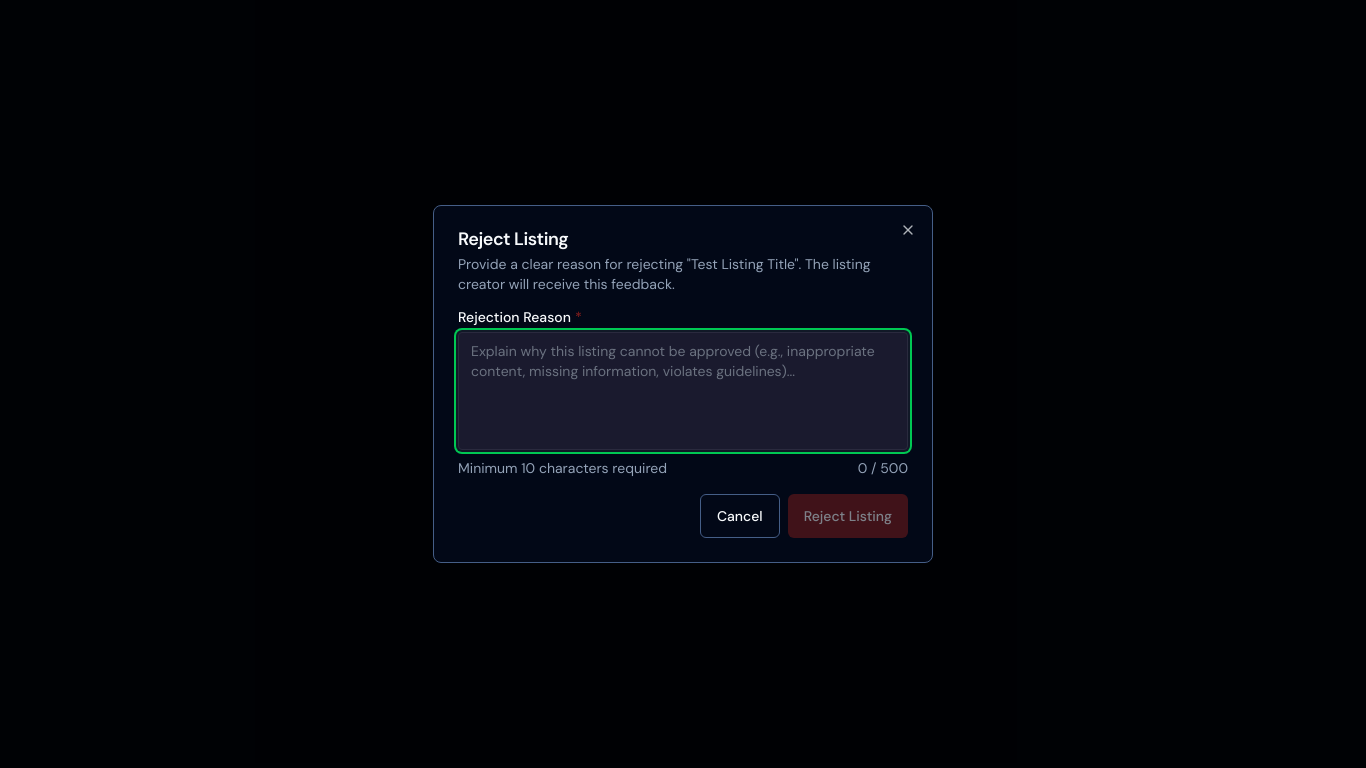
RejectListingModal › displays error message on submission failure
The image size is (1366, 768).
Step 1. Type "This listing violates our content policy" into the text box labelled "Rejection Reason*" → coordinates (683, 391), box x1=458 y1=332 x2=908 y2=450
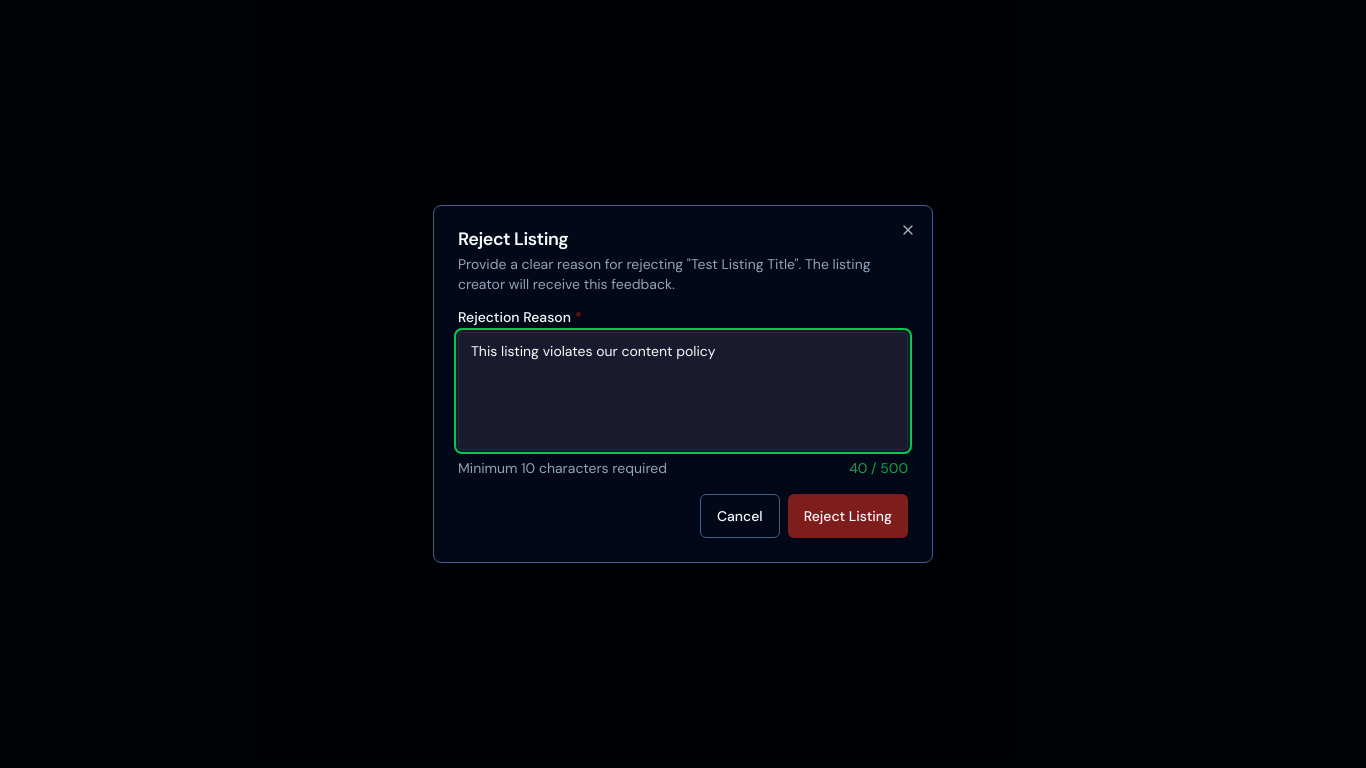
Step 2. Click the button "Reject Listing" → coordinates (848, 516), box x1=788 y1=494 x2=908 y2=538
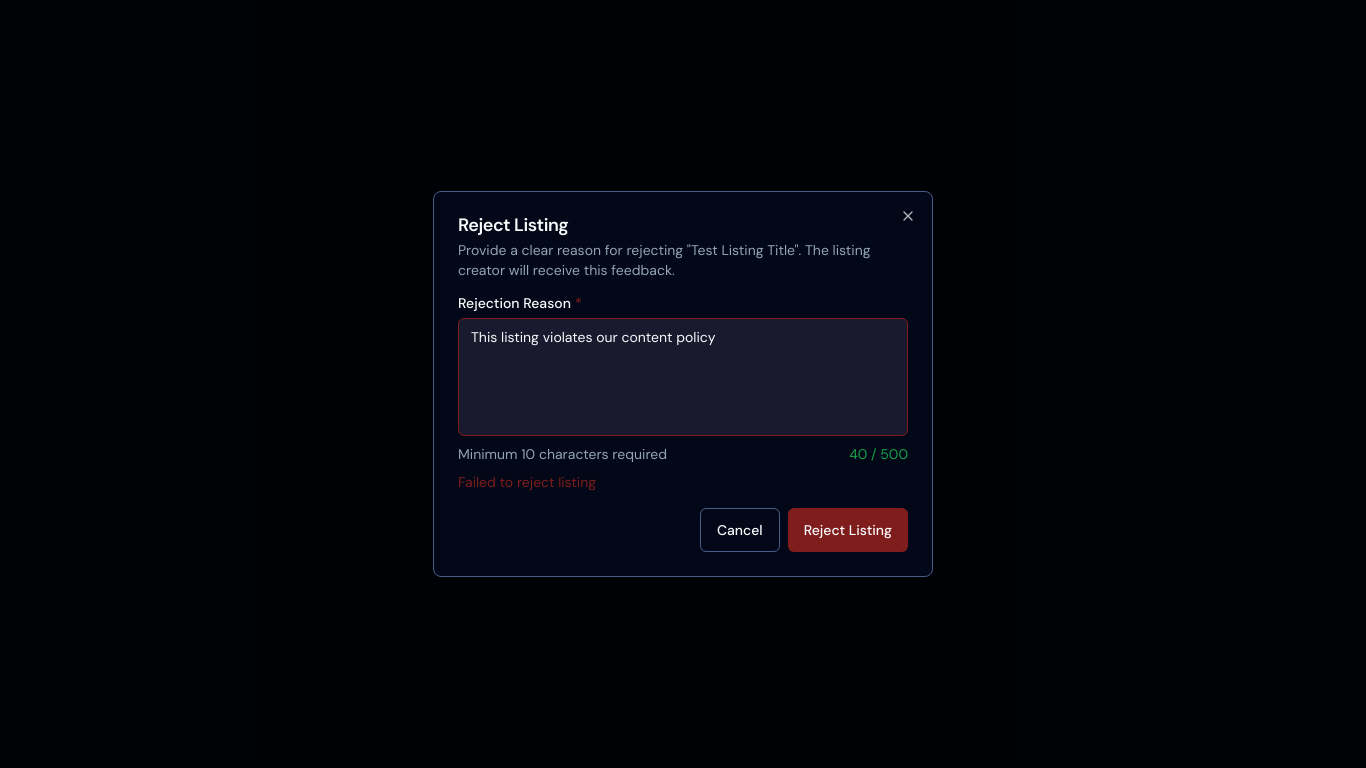
Expected: the text "Failed to reject listing" is shown, x1=458 y1=473 x2=596 y2=491
